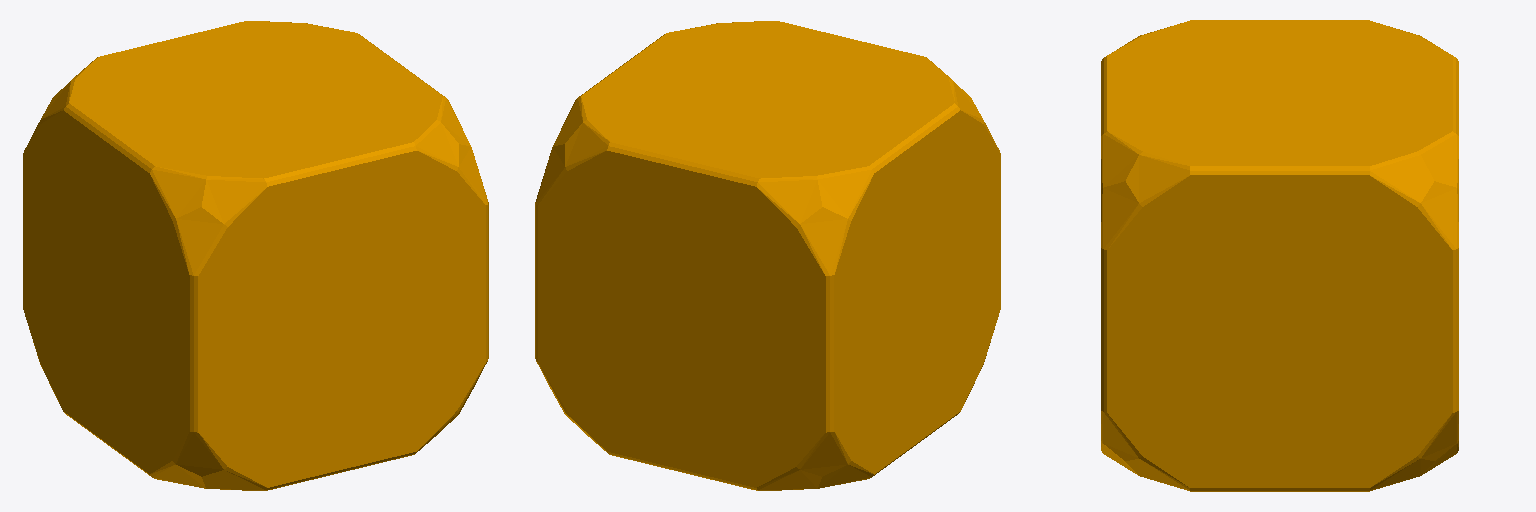
robot.urdf — cubo:
<?xml version="1.0"?>
<robot name="cubo">

  <link name="base_link">

    <!-- Propriedades físicas -->
    <inertial>
      <mass value="1"/>
      <inertia ixx="0.1666" iyy="0.1666" izz="0.1666"
               ixy="0" ixz="0" iyz="0"/>
    </inertial>

    <!-- Visual -->
    <visual>
      <geometry>
        <mesh filename="cubo.obj" scale="1 1 1"/>
      </geometry>
    </visual>

    <!-- Colisão -->
    <collision>
      <geometry>
        <mesh filename="cubo.obj" scale="1 1 1"/>
      </geometry>
    </collision>

  </link>

</robot>

--- Render facts (derived) ---
3 views of the same robot in one strip: view 1: azimuth 30°, elevation 25°; view 2: azimuth 150°, elevation 25°; view 3: azimuth 270°, elevation 25° (orthographic).
Model cubo with 1 links and 0 joints (none), rooted at base_link, posed every joint at zero.
Visible links, largest first — view 1: base_link; view 2: base_link; view 3: base_link.
Link boxes in pixels (x1=…): base_link: x1=23, y1=21, x2=488, y2=490; base_link: x1=535, y1=21, x2=1000, y2=490; base_link: x1=1101, y1=20, x2=1458, y2=491.
Size in the robot's own frame: 0.0202 by 0.0202 by 0.0202 metres.
1 mesh visuals loaded from 1 distinct referenced files (1 OBJ).
